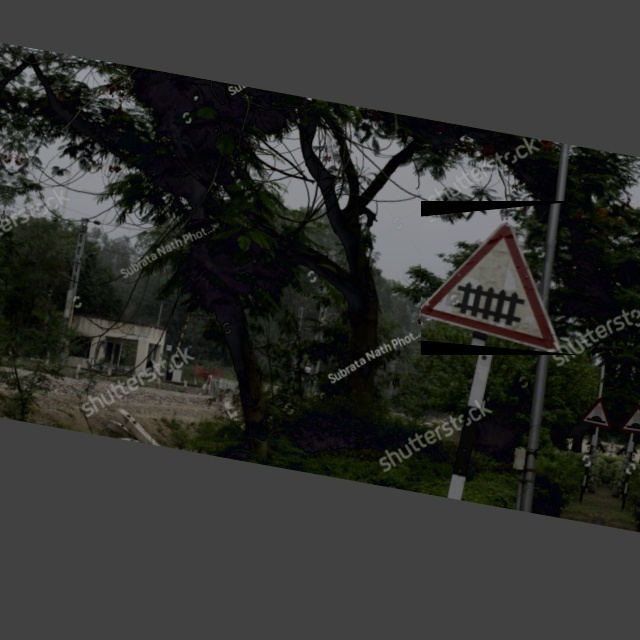Guarded_Level_Crossing: (421, 201, 581, 355)
